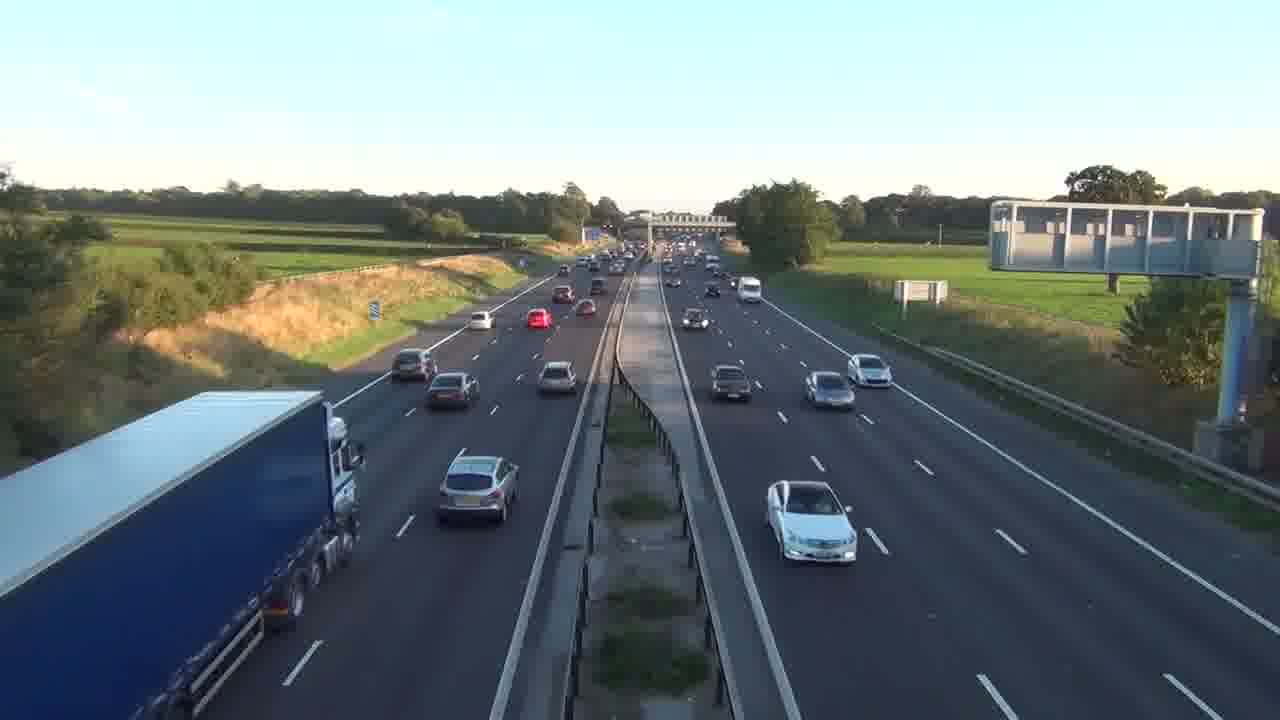car: (765, 479, 860, 565), (434, 449, 520, 526), (802, 369, 856, 410), (425, 371, 480, 411), (709, 363, 753, 403), (847, 353, 894, 389), (537, 360, 578, 395), (391, 349, 430, 383), (681, 306, 708, 331), (526, 308, 551, 331)
